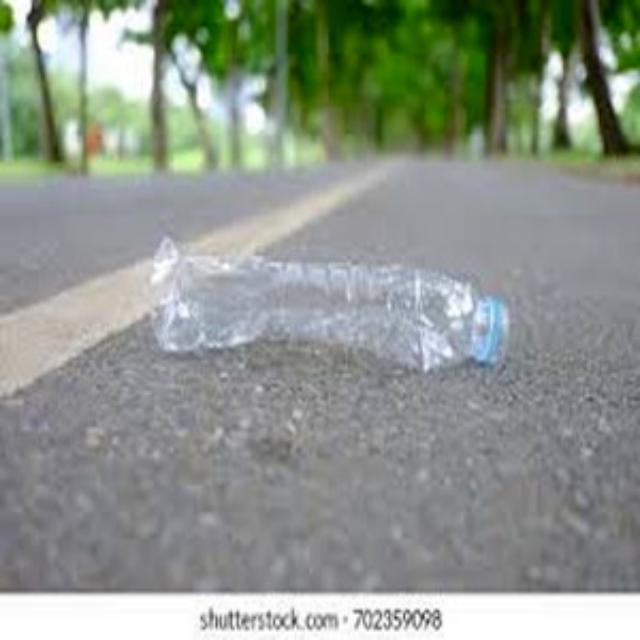Plastic: (143, 234, 512, 372)
